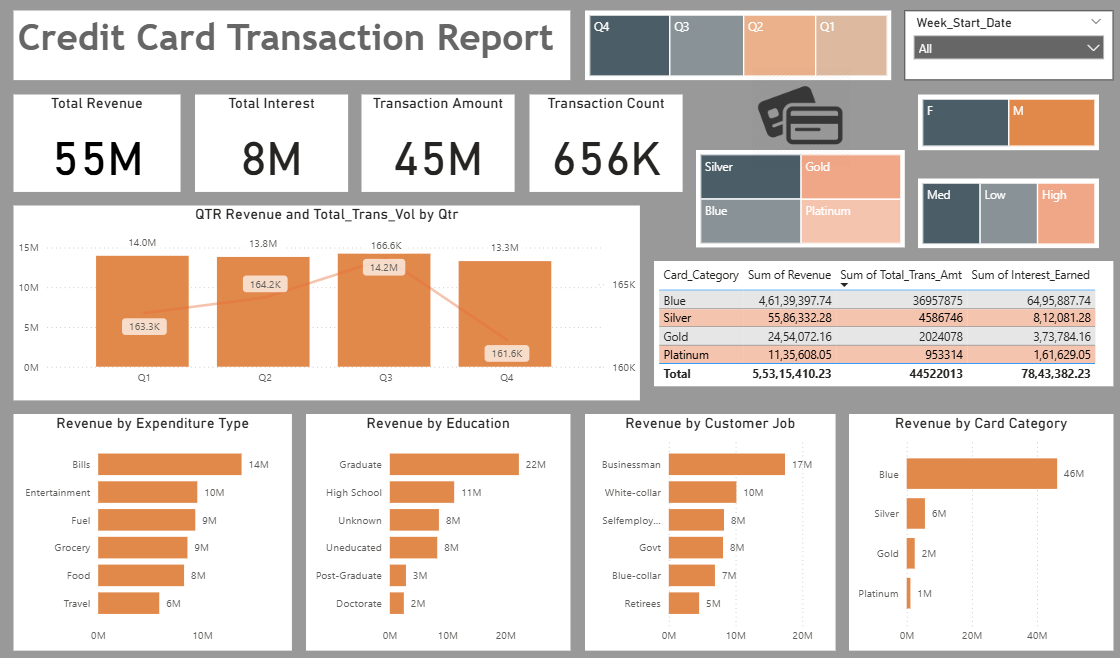

This screenshot's page, from the dashboard's own definition file:
{"tool":"powerbi","page":{"name":"Page 1","canvas":[1295,773],"ordinal":0},"visuals":[{"type":"textbox","box":[16,16,640,80],"z":0},{"type":"lineClusteredColumnComboChart","title":"QTR Revenue and Total_Trans_Vol by Qtr","fields":{"Y":["Sum(cc_detail.Revenue)"],"Y2":["Sum(cc_detail.Total_Trans_Vol)"],"Category":["cc_detail.Qtr"]},"box":[16,240,720,224],"z":1000},{"type":"barChart","title":"Revenue by Expenditure Type","fields":{"Category":["cc_detail.Exp_Type"],"Y":["Sum(cc_detail.Revenue)"]},"box":[16,480,320,272],"z":2000},{"type":"barChart","title":"Revenue by Education","fields":{"Y":["Sum(cc_detail.Revenue)"],"Category":["cust_detail.Education_Level"]},"box":[352,480,304,272],"z":3000},{"type":"barChart","title":"Revenue by Customer Job","fields":{"Y":["Sum(cc_detail.Revenue)"],"Category":["cust_detail.Customer_Job"]},"box":[672,480,288,272],"z":4000},{"type":"barChart","title":"Revenue by Card Category","fields":{"Y":["Sum(cc_detail.Revenue)"],"Category":["cc_detail.Card_Category"]},"box":[976,480,304,272],"z":5000},{"type":"tableEx","title":"Revenue","fields":{"Values":["cc_detail.Card_Category","Sum(cc_detail.Revenue)","Sum(cc_detail.Total_Trans_Amt)","Sum(cc_detail.Interest_Earned)"]},"box":[752,304,528,144],"z":6000},{"type":"card","title":"Total Revenue","fields":{"Values":["Sum(cc_detail.Revenue)"]},"box":[16,112,192,112],"z":7000},{"type":"card","title":"Total Interest","fields":{"Values":["Sum(cc_detail.Interest_Earned)"]},"box":[224,112,176,112],"z":8000},{"type":"card","title":"Transaction Amount","fields":{"Values":["Sum(cc_detail.Total_Trans_Amt)"]},"box":[416,112,176,112],"z":9000},{"type":"card","title":"Transaction Count","fields":{"Values":["Sum(cc_detail.Total_Trans_Vol)"]},"box":[608,112,176,112],"z":10000},{"type":"slicer","title":"Week Start Date","fields":{"Values":["cc_detail.Week_Start_Date"]},"box":[1040,16,240,80],"z":11000},{"type":"treemap","fields":{"Group":["cc_detail.Qtr"],"Values":["Avg(cc_detail.Client_Num)"]},"box":[672,16,352,80],"z":12000},{"type":"treemap","fields":{"Group":["cust_detail.Gender"],"Values":["Avg(cc_detail.Client_Num)"]},"box":[1056,112,208,64],"z":13000},{"type":"treemap","fields":{"Values":["Avg(cc_detail.Client_Num)"],"Group":["cc_detail.Card_Category"]},"box":[800,176,240,112],"z":14000},{"type":"treemap","fields":{"Values":["Avg(cc_detail.Client_Num)"],"Group":["cust_detail.IncomeGroup"]},"box":[1056,208,208,80],"z":15000},{"type":"image","box":[769,76,304,125],"z":15001}]}

Visuals, with their boxes in screenshot pixels (x1, y1, x2, y2), scaled from the page's 1295x773 canvas onto the 1120x658 screenshot:
textbox: locate(14, 14, 567, 82)
"QTR Revenue and Total_Trans_Vol by Qtr" lineClusteredColumnComboChart: locate(14, 204, 637, 395)
"Revenue by Expenditure Type" barChart: locate(14, 409, 291, 640)
"Revenue by Education" barChart: locate(304, 409, 567, 640)
"Revenue by Customer Job" barChart: locate(581, 409, 830, 640)
"Revenue by Card Category" barChart: locate(844, 409, 1107, 640)
"Revenue" tableEx: locate(650, 259, 1107, 381)
"Total Revenue" card: locate(14, 95, 180, 191)
"Total Interest" card: locate(194, 95, 346, 191)
"Transaction Amount" card: locate(360, 95, 512, 191)
"Transaction Count" card: locate(526, 95, 678, 191)
"Week Start Date" slicer: locate(899, 14, 1107, 82)
treemap - cc_detail.Qtr x Avg(cc_detail.Client_Num): locate(581, 14, 886, 82)
treemap - cust_detail.Gender x Avg(cc_detail.Client_Num): locate(913, 95, 1093, 150)
treemap - Avg(cc_detail.Client_Num) x cc_detail.Card_Category: locate(692, 150, 899, 245)
treemap - Avg(cc_detail.Client_Num) x cust_detail.IncomeGroup: locate(913, 177, 1093, 245)
image: locate(665, 65, 928, 171)
